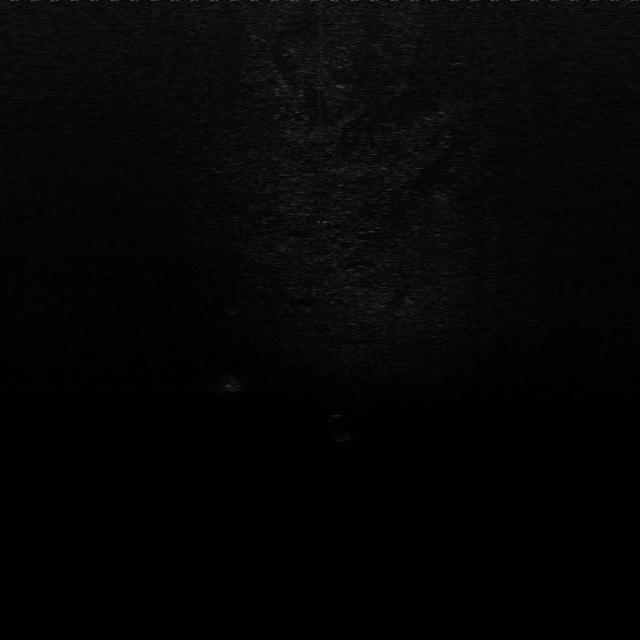circle cage: (213, 371, 248, 397)
tyre: (320, 409, 358, 445)
